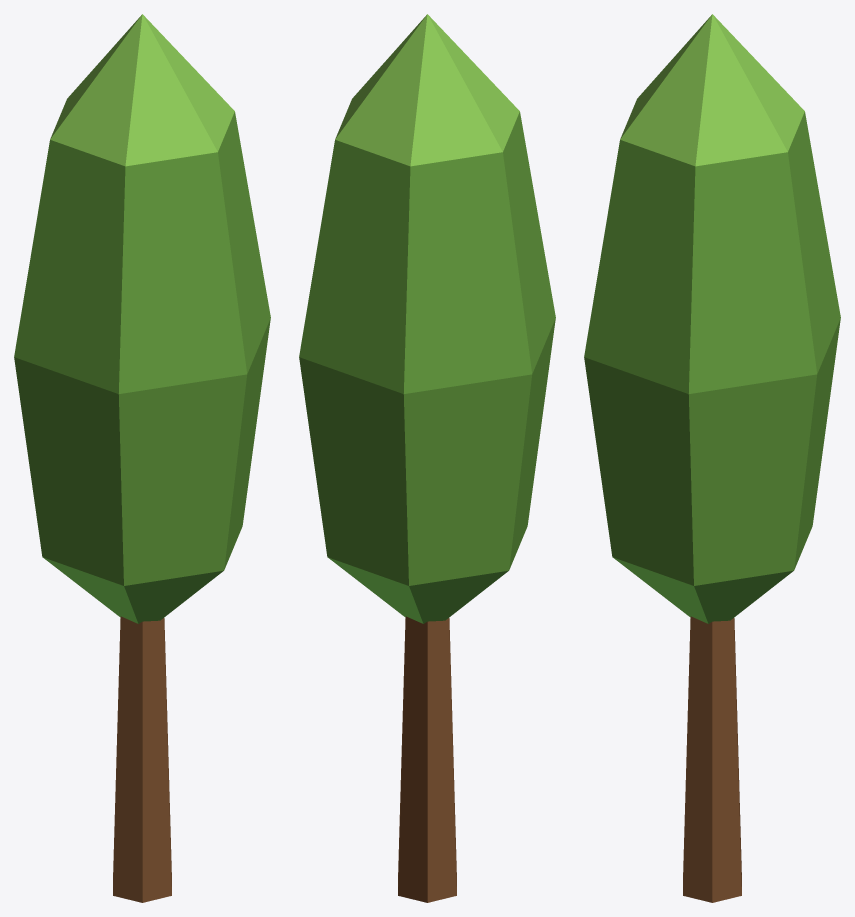
Rendered from tree_simple.glb.
3 views of the same model, side by side, from view 1: azimuth 30°, elevation 25°; view 2: azimuth 150°, elevation 25°; view 3: azimuth 270°, elevation 25° (orthographic).
Visible parts, largest first — view 1: tree_simple; view 2: tree_simple; view 3: tree_simple.
Boxes of the visible parts, x1=… form: tree_simple: x1=14, y1=14, x2=270, y2=902; tree_simple: x1=299, y1=14, x2=555, y2=902; tree_simple: x1=584, y1=14, x2=840, y2=902.
Size of the model in its own units: 0.3546 by 1.27 by 0.3382.
Materials: 1 (1 with a texture image).
